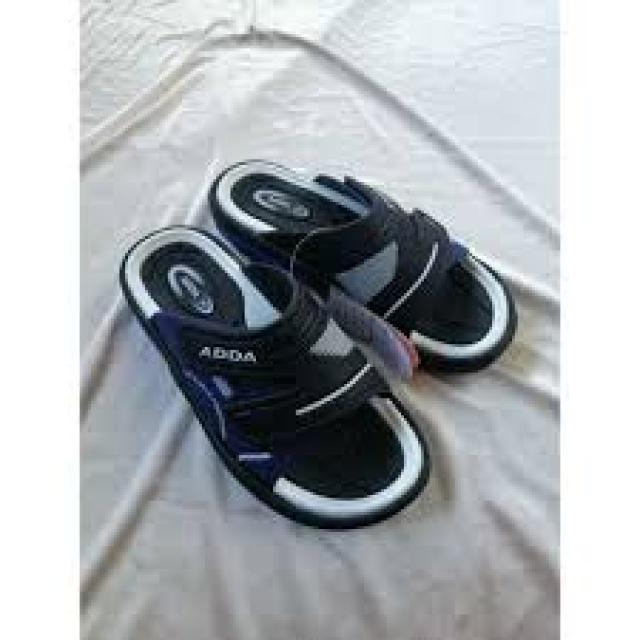shoe: (115, 156, 524, 534), (114, 224, 439, 532)
